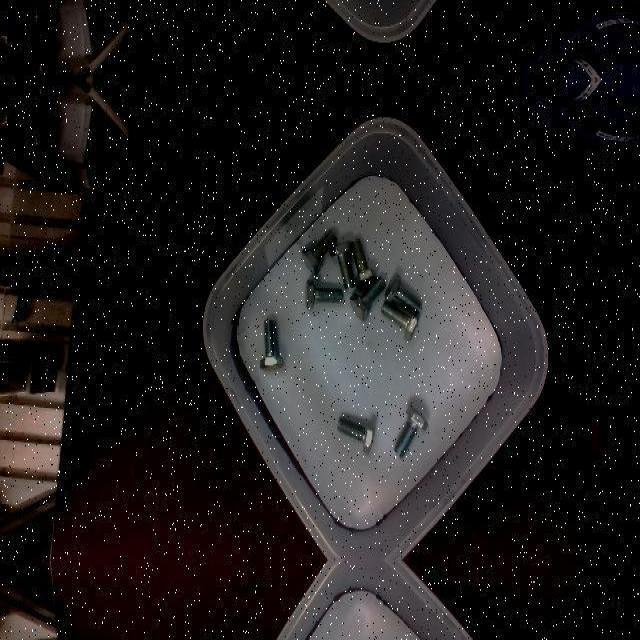screw: (394, 405, 428, 459), (350, 276, 387, 322), (301, 229, 337, 275), (381, 301, 420, 343), (384, 273, 422, 315), (337, 416, 374, 454), (328, 241, 354, 291), (351, 237, 377, 287), (259, 318, 283, 370), (304, 279, 342, 311)
